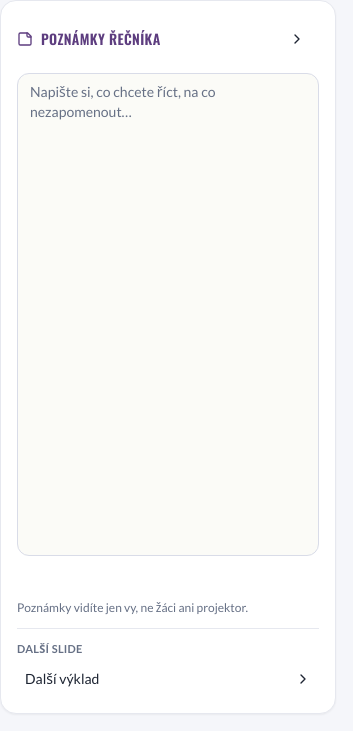
Test: TeacherNotesPanel › automaticky uloží text po 700 ms a ukáže Uloženo
Type "[TEST] Zmínit domácí příklad" into the text box named "Poznámky řečníka k aktuálnímu slidu".
click(168, 314); type("[TEST] Zmínit domácí příklad")  # box x1=17 y1=73 x2=319 y2=556
Wait 700 ms
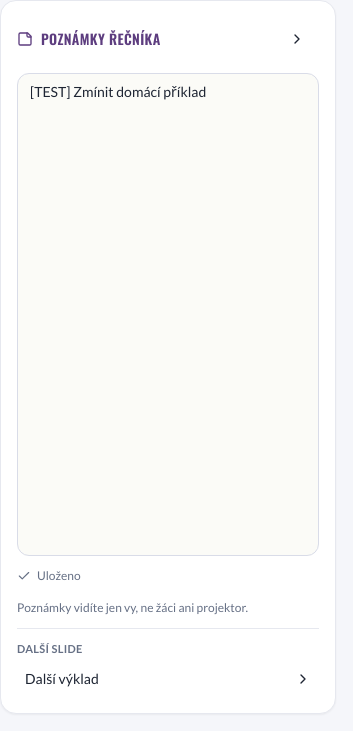
Expected: the text "Uloženo" is shown, x1=17 y1=568 x2=81 y2=582
